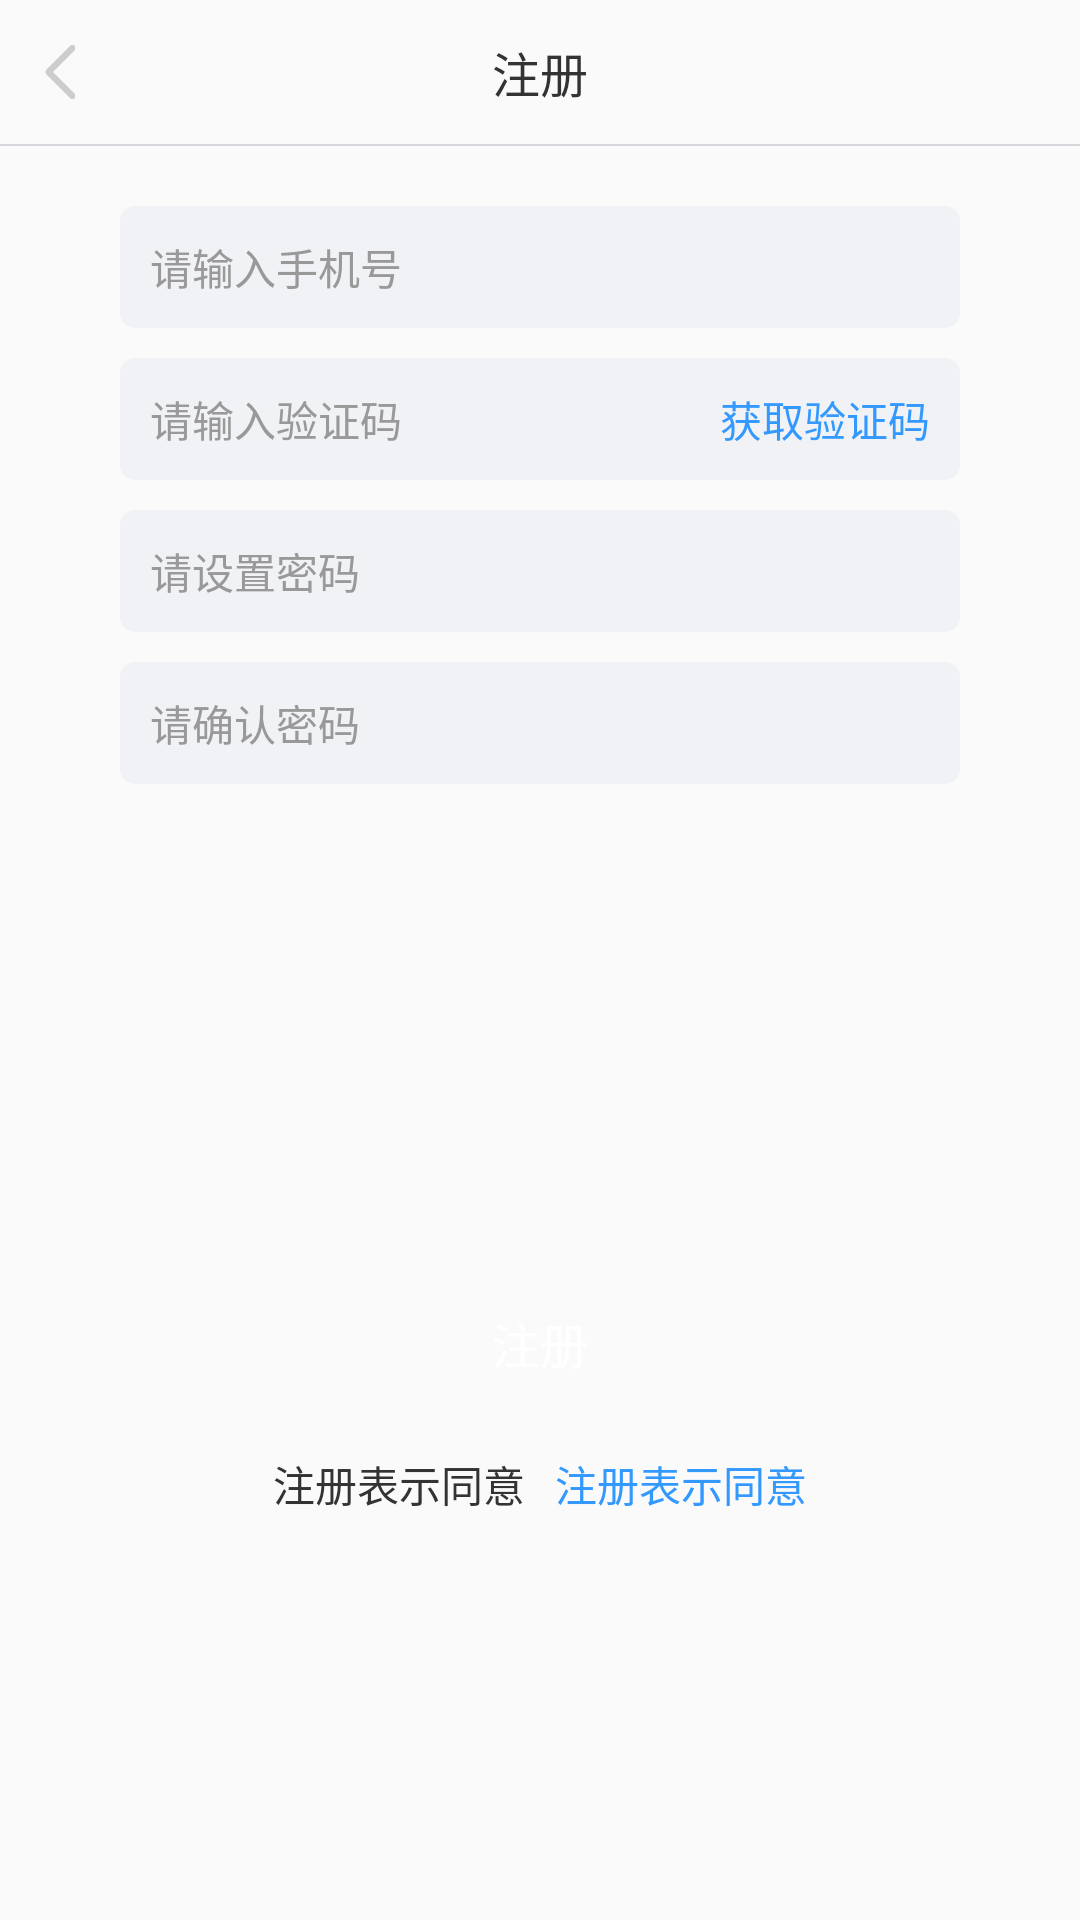

Screen size 1080*1920. Icon name, then its center in pixels as point (x, y):
back: point (60, 72)
